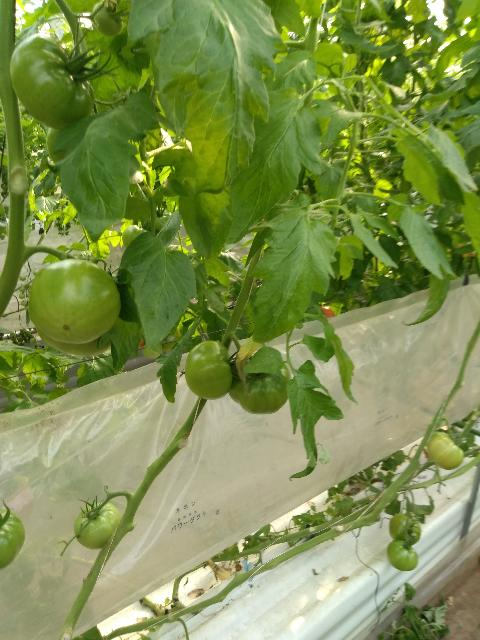b_green: (10, 34, 95, 129), (28, 259, 122, 344), (229, 350, 292, 415), (184, 341, 233, 399), (74, 503, 121, 549), (36, 328, 111, 356), (0, 507, 26, 570), (427, 435, 464, 470), (92, 1, 124, 37), (387, 539, 419, 572), (389, 513, 421, 545), (122, 224, 147, 248)
